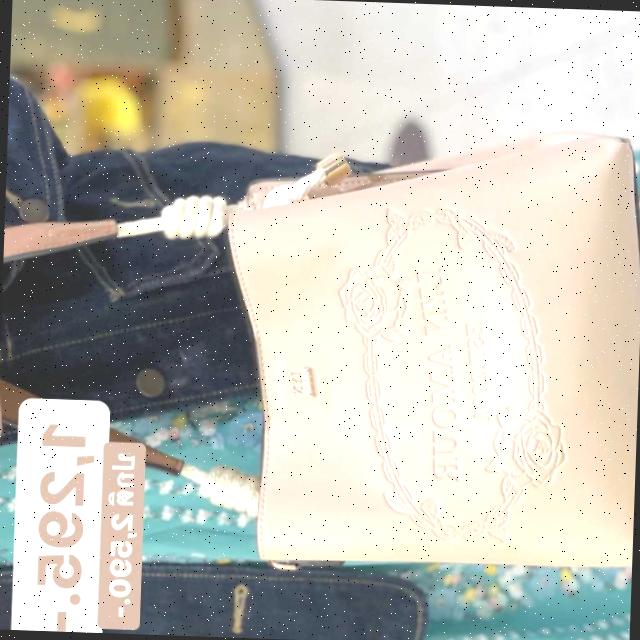Handbag: (169, 112, 640, 574)
